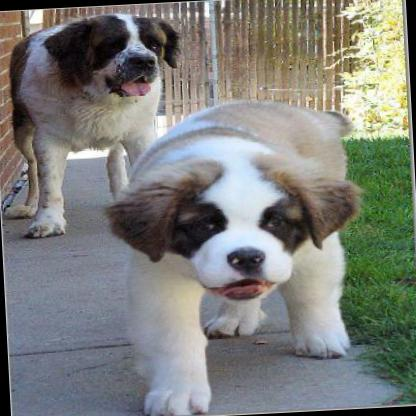Saint_Bernard: (91, 92, 373, 416), (0, 7, 187, 238)
